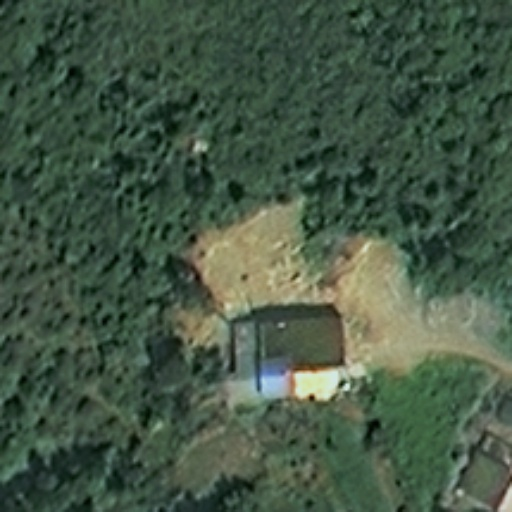landslide: (188, 194, 414, 313)
